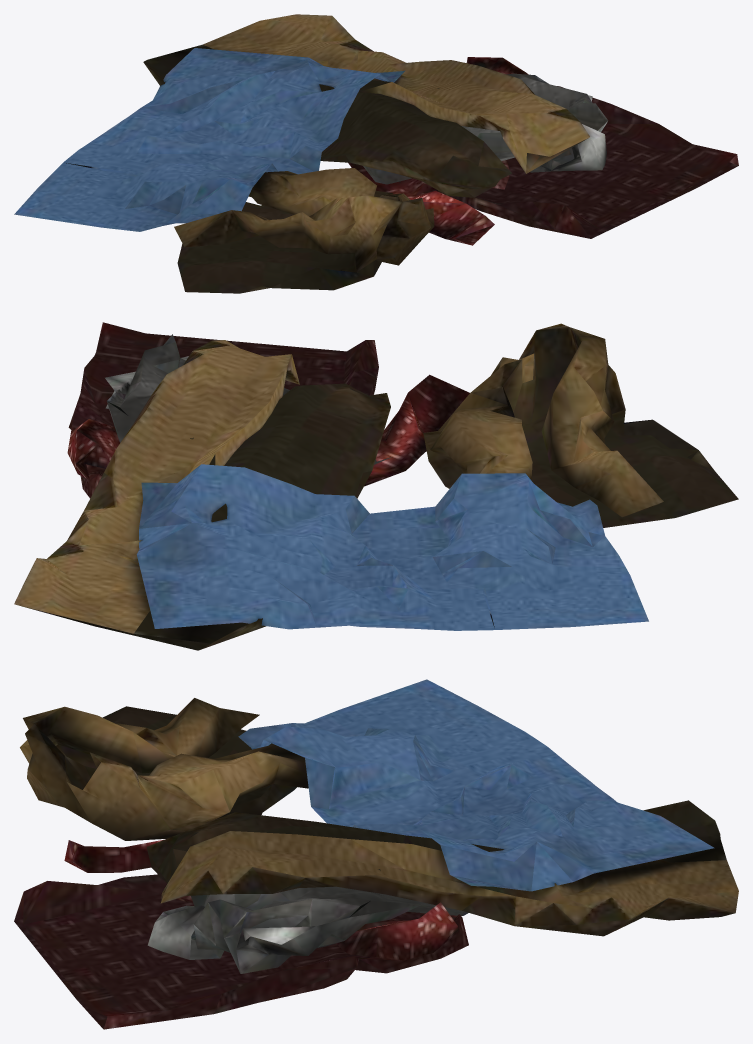
The model's file is pile5_0_lod1_web.glb.
3 renders of one model, top to bottom at view 1: azimuth 30°, elevation 25°; view 2: azimuth 150°, elevation 25°; view 3: azimuth 270°, elevation 25°, orthographic. The views are drawn at different scales.
Parts seen in each view (by area): view 1: pile5_0_towel4_Cloth, pile5_0_sweatpants2_Cloth, pile5_0_sweater3_Cloth, pile5_0_shirt0_Cloth, pile5_0_tshirt1_Cloth; view 2: pile5_0_towel4_Cloth, pile5_0_sweatpants2_Cloth, pile5_0_sweater3_Cloth, pile5_0_shirt0_Cloth, pile5_0_tshirt1_Cloth; view 3: pile5_0_towel4_Cloth, pile5_0_sweatpants2_Cloth, pile5_0_shirt0_Cloth, pile5_0_sweater3_Cloth, pile5_0_tshirt1_Cloth.
Part boxes in pixels (box(x1,y1,x2,y2)): pile5_0_towel4_Cloth: box(14, 48, 405, 231); pile5_0_sweatpants2_Cloth: box(143, 14, 589, 197); pile5_0_sweater3_Cloth: box(174, 168, 434, 293); pile5_0_shirt0_Cloth: box(348, 57, 738, 245); pile5_0_tshirt1_Cloth: box(363, 73, 608, 184); pile5_0_towel4_Cloth: box(136, 464, 648, 630); pile5_0_sweatpants2_Cloth: box(14, 340, 390, 650); pile5_0_sweater3_Cloth: box(423, 323, 738, 527); pile5_0_shirt0_Cloth: box(67, 322, 469, 498); pile5_0_tshirt1_Cloth: box(105, 334, 391, 464); pile5_0_towel4_Cloth: box(238, 679, 714, 891); pile5_0_sweatpants2_Cloth: box(146, 800, 738, 936); pile5_0_shirt0_Cloth: box(14, 839, 468, 1029); pile5_0_sweater3_Cloth: box(20, 698, 308, 840); pile5_0_tshirt1_Cloth: box(147, 886, 468, 973).
Size of the model in its own units: 1.38 by 0.179 by 1.21.
1 material, 1 textured.
